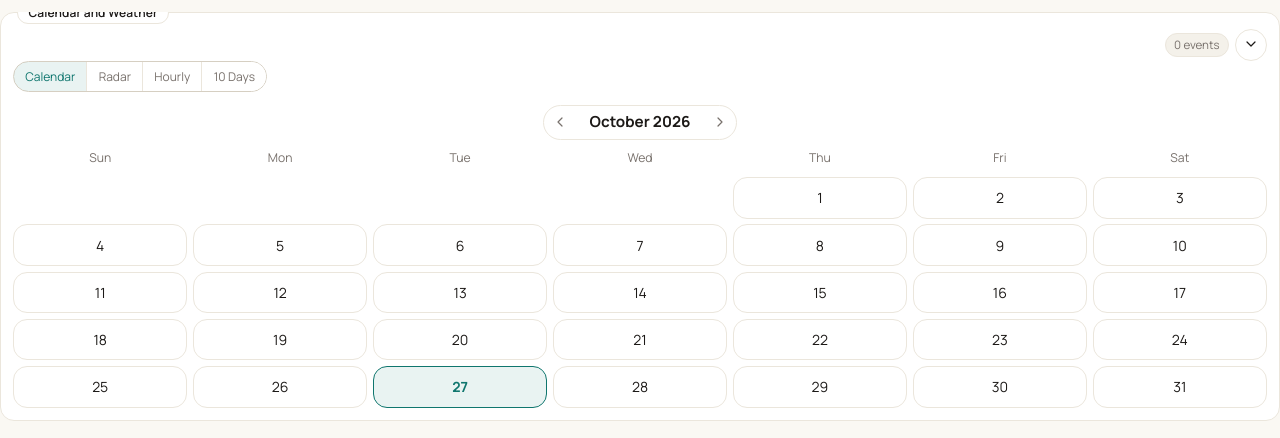
Scenario: CalendarWeekCard collapse › shows the next 24 hours as a row of cards with temperature and rain chance
The width and height of the screenshot is (1280, 438).
Step 1. Click the tab "Hourly" → point(172, 77), box [142,62,202,91]
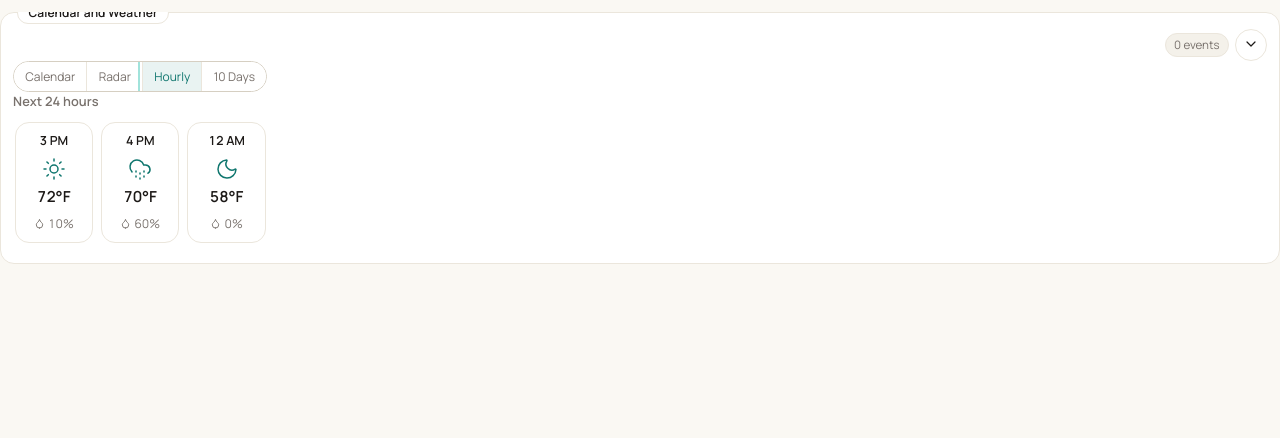
Expected: the number of list items is 3, [15,122,93,243]; [101,122,179,243]; [187,122,266,243]
Expected: the list item "4 PM 70°F 60%" is shown, [101,122,179,243]
